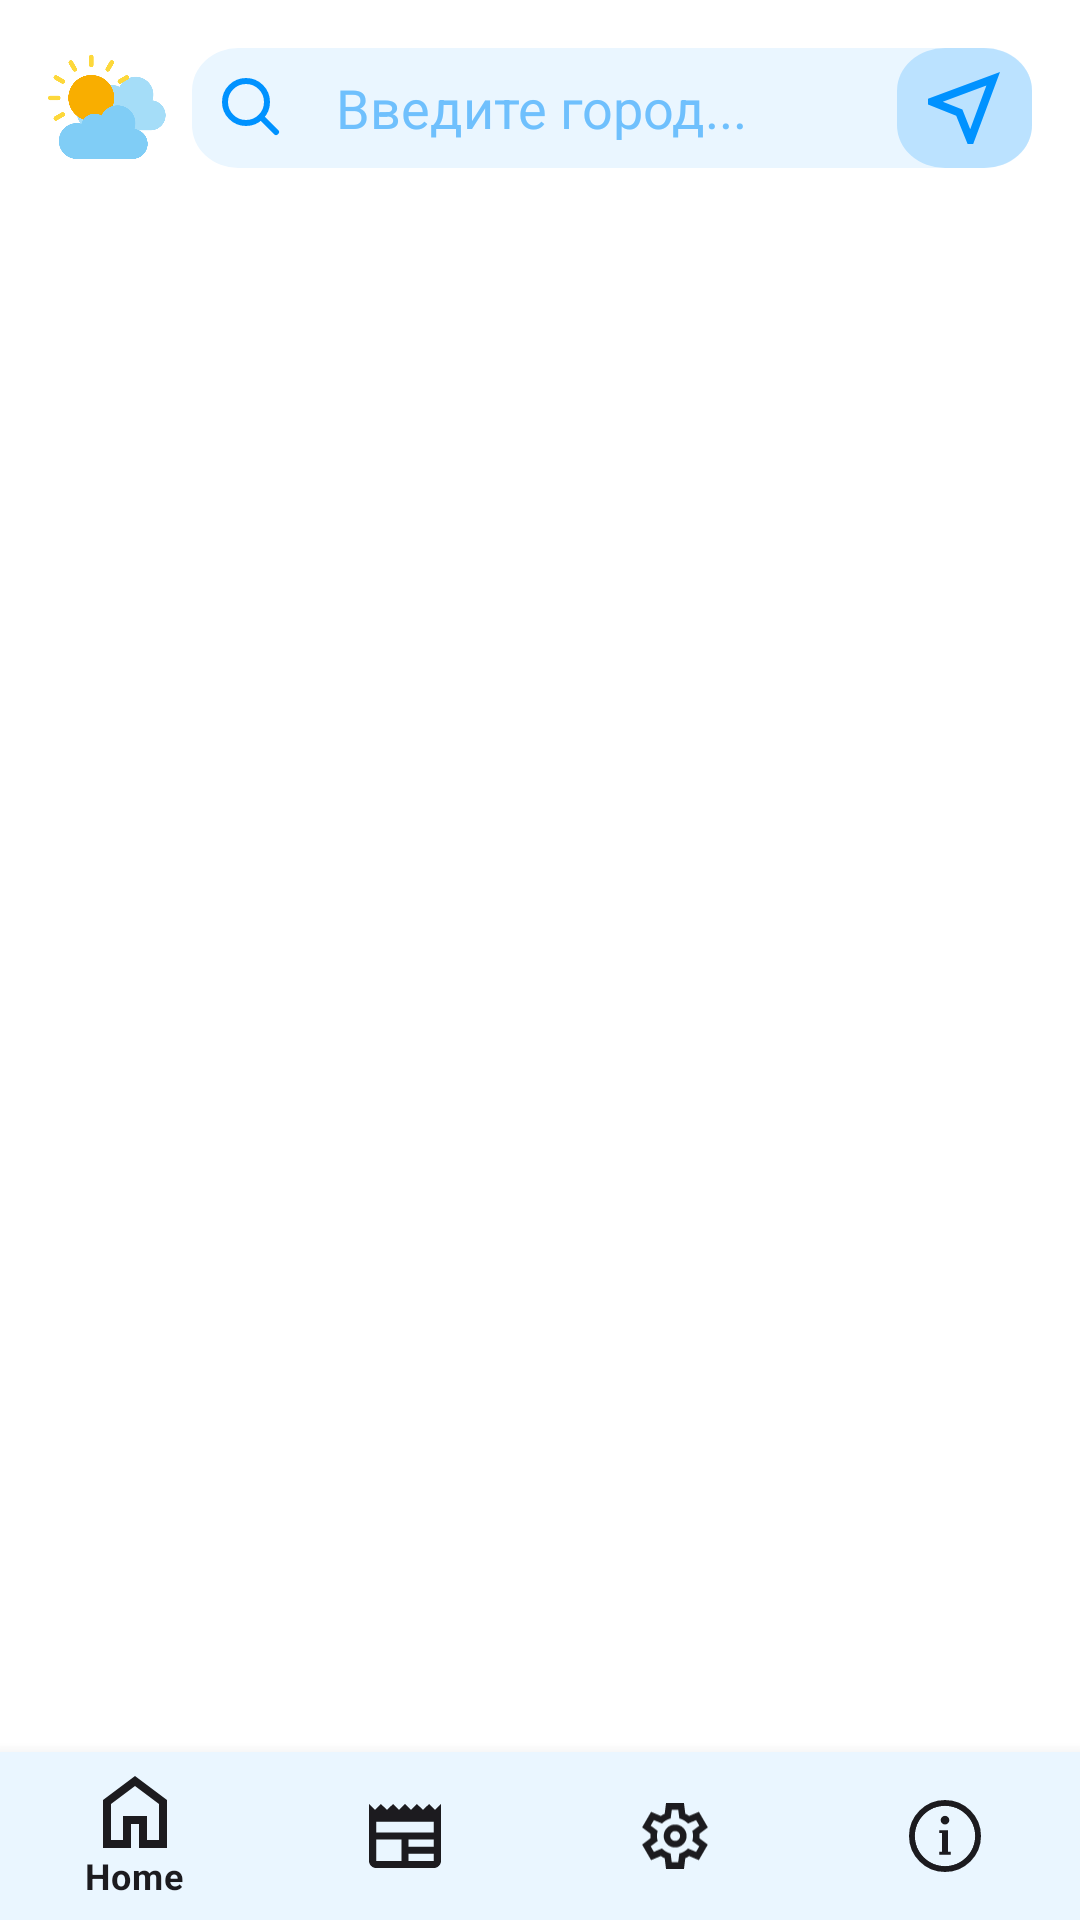

Where icons sit on this 1080 × 1920 app screen, as detection(x1, y1, x2, y2):
location: detection(928, 72, 1000, 144)
search: detection(222, 78, 279, 135)
weather: detection(48, 55, 166, 159)
